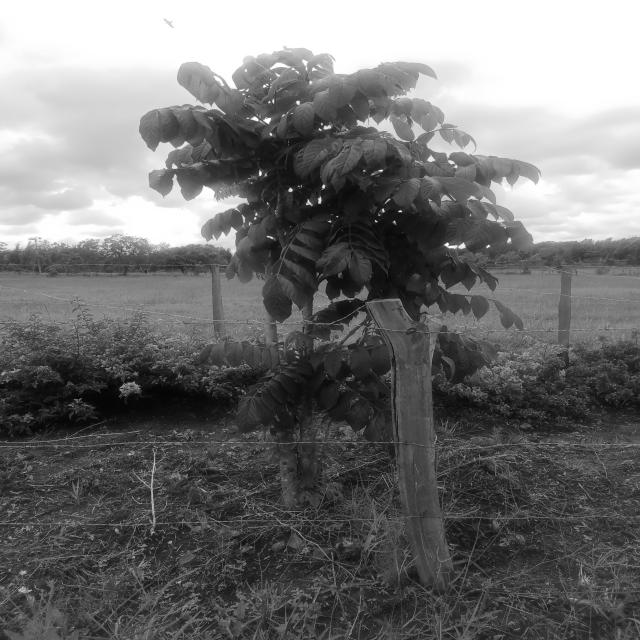Polyscias Kikuyensis: (94, 10, 607, 584)
